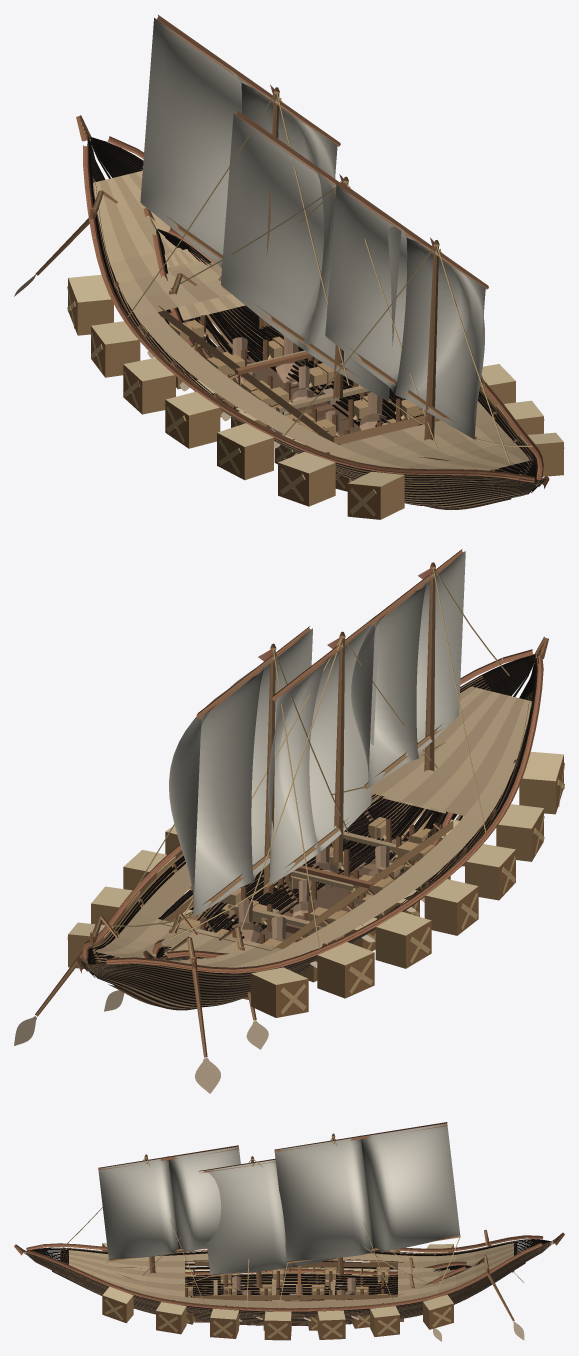
Rendered from champa.glb.
3 views of the same model, one above another, from view 1: azimuth 30°, elevation 25°; view 2: azimuth 150°, elevation 25°; view 3: azimuth 270°, elevation 25° (orthographic). The views are drawn at different scales.
Visible parts, largest first — view 1: Merchant, War; view 2: Merchant, War; view 3: Merchant, War.
Part boxes in pixels (x1,y1,x2,y2): Merchant: [14, 14, 564, 519]; War: [143, 110, 451, 491]; Merchant: [14, 549, 564, 1093]; War: [104, 618, 464, 1049]; Merchant: [14, 1122, 564, 1340]; War: [117, 1156, 484, 1341].
Size of the model in its own units: 3.37 by 3.58 by 9.26.
